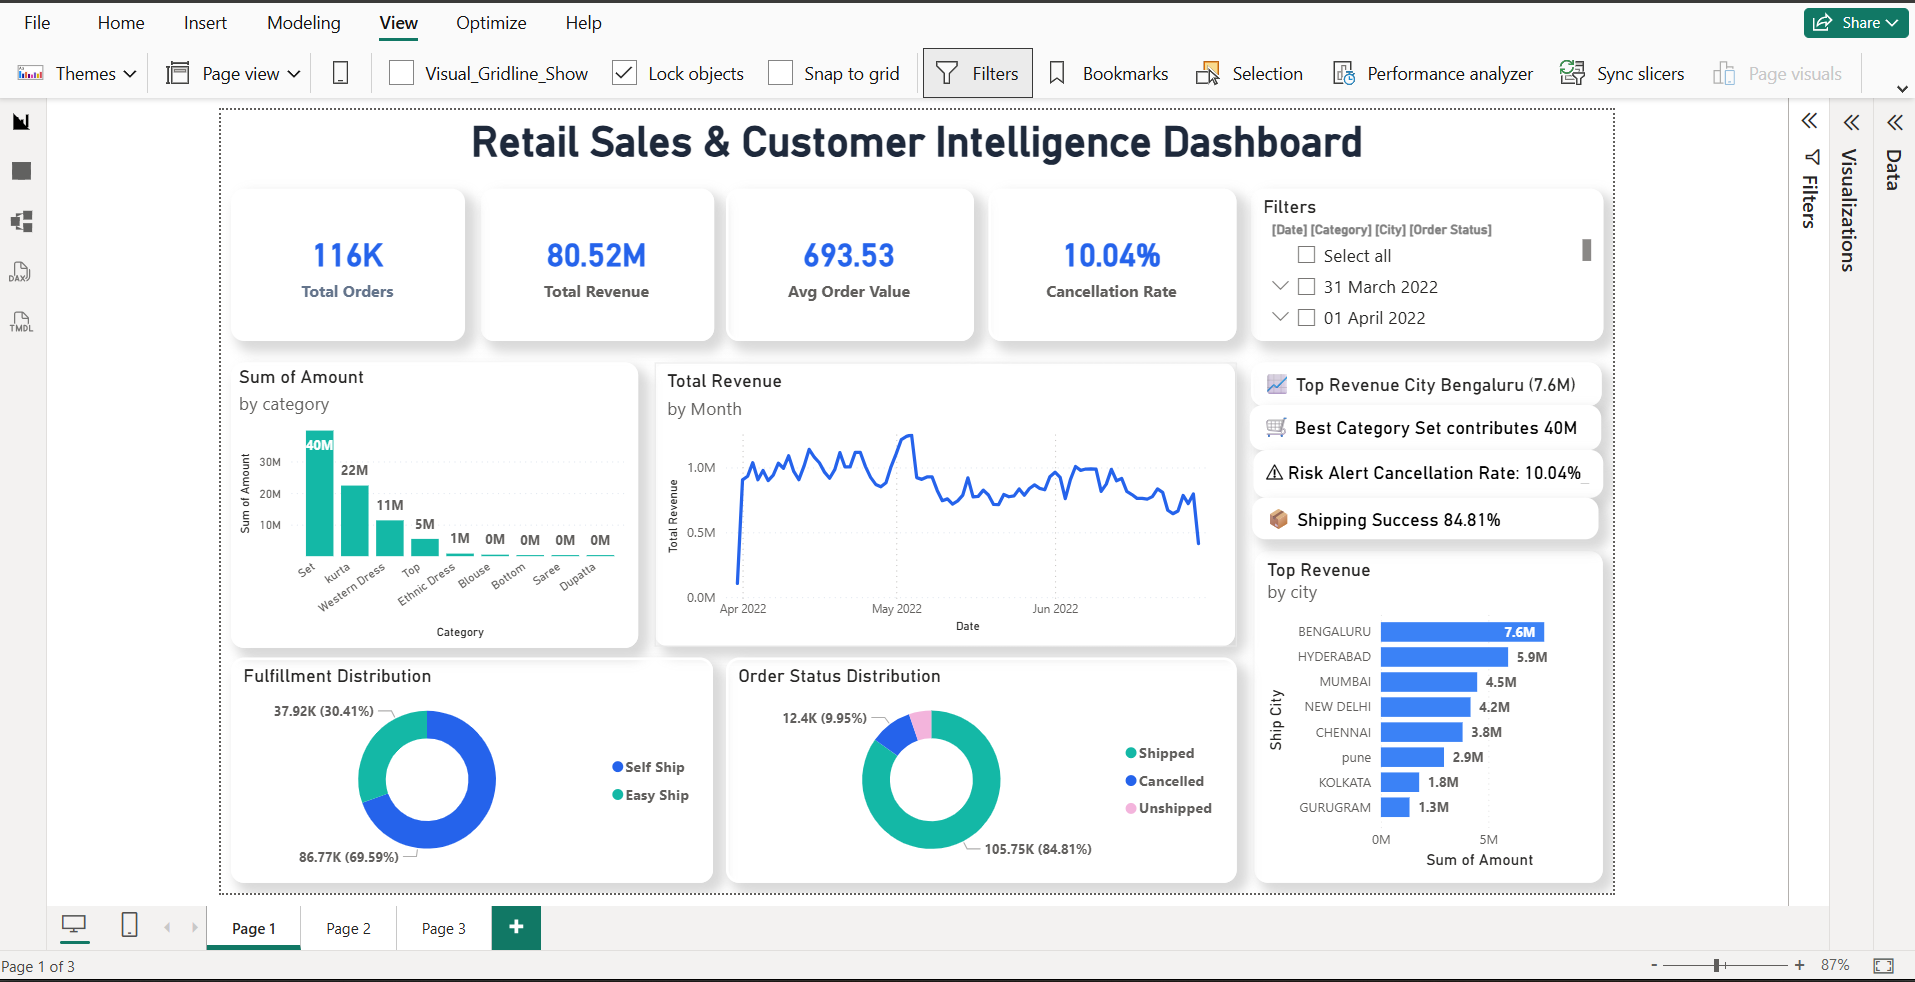

This screenshot's page, from the dashboard's own definition file:
{"tool":"powerbi","page":{"name":"Page 1","canvas":[1280,720],"ordinal":0},"visuals":[{"type":"card","fields":{"Values":["E-commerce Sales Data .Total Revenue"]},"box":[238.8,72.7,214.1,140],"z":0},{"type":"card","fields":{"Values":["E-commerce Sales Data .Total Orders"]},"box":[9.6,72.7,215.4,140],"z":1000},{"type":"lineChart","title":"Total Revenue ","fields":{"Category":["E-commerce Sales Data.Date"],"Y":["E-commerce Sales Data .Total Revenue"]},"box":[399.3,231.9,533.8,260.7],"z":2000},{"type":"clusteredColumnChart","title":"Sum of Amount ","fields":{"Category":["E-commerce Sales Data.Category"],"Y":["Sum(E-commerce Sales Data.Amount)"]},"box":[9.6,231.9,374.6,262.1],"z":3000},{"type":"clusteredBarChart","title":"Top Revenue","fields":{"Category":["E-commerce Sales Data .ship_city"],"Y":["Sum(E-commerce Sales Data .Amount)"]},"box":[950.9,406.2,319.7,304.6],"z":4000},{"type":"donutChart","title":"Fulfillment Distribution","fields":{"Category":["E-commerce Sales Data .fulfilled_by"],"Y":["CountNonNull(E-commerce Sales Data .fulfilled_by)"]},"box":[9.6,503.6,443.2,207.2],"z":5000},{"type":"donutChart","title":"Order Status Distribution","fields":{"Category":["E-commerce Sales Data .Courier_Status"],"Y":["CountNonNull(E-commerce Sales Data .Courier_Status)"]},"box":[463.8,503.6,469.3,207.2],"z":6000},{"type":"card","fields":{"Values":["E-commerce Sales Data .Avg Order Value"]},"box":[463.8,72.7,227.8,140],"z":7000},{"type":"textbox","title":"Retail Sales & Customer Intelligence Dashboard","box":[0,0,1280.3,55],"z":8000},{"type":"slicer","title":"Filters","fields":{"Values":["E-commerce Sales Data .Date","E-commerce Sales Data .Category","E-commerce Sales Data .ship_city","E-commerce Sales Data .Courier_Status"]},"box":[946.8,72.7,323.8,140],"z":9000},{"type":"card","fields":{"Values":["E-commerce Sales Data.Cancellation Rate"]},"box":[705.3,72.7,227.8,140],"z":10000},{"type":"textbox","title":"📈 Top Revenue City        Bengaluru (7.6M) ","box":[947.5,232.3,322.8,40.3],"z":11000},{"type":"textbox","title":"🛒 Best Category Set contributes 40M","box":[946.5,271.5,322.8,41.6],"z":12000},{"type":"textbox","title":"⚠ Risk Alert Cancellation Rate: 10.04% ","box":[948.9,313,321.6,44],"z":13000},{"type":"textbox","title":"📦 Shipping Success 84.81%","box":[948.2,356.8,318.4,38.4],"z":14000}]}

Visuals, with their boxes on the page's 1280x720 design canvas (x1, y1, x2, y2). These are canvas units, not pixel positions in the 1915x982 screenshot, which may show the page scaled, cropped or inside an application window:
card - E-commerce Sales Data .Total Revenue: [x1=239, y1=73, x2=453, y2=213]
card - E-commerce Sales Data .Total Orders: [x1=10, y1=73, x2=225, y2=213]
"Total Revenue " lineChart: [x1=399, y1=232, x2=933, y2=493]
"Sum of Amount " clusteredColumnChart: [x1=10, y1=232, x2=384, y2=494]
"Top Revenue" clusteredBarChart: [x1=951, y1=406, x2=1271, y2=711]
"Fulfillment Distribution" donutChart: [x1=10, y1=504, x2=453, y2=711]
"Order Status Distribution" donutChart: [x1=464, y1=504, x2=933, y2=711]
card - E-commerce Sales Data .Avg Order Value: [x1=464, y1=73, x2=692, y2=213]
"Retail Sales & Customer Intelligence Dashboard" textbox: [x1=0, y1=0, x2=1280, y2=55]
"Filters" slicer: [x1=947, y1=73, x2=1271, y2=213]
card - E-commerce Sales Data.Cancellation Rate: [x1=705, y1=73, x2=933, y2=213]
"📈 Top Revenue City        Bengaluru (7.6M) " textbox: [x1=948, y1=232, x2=1270, y2=273]
"🛒 Best Category Set contributes 40M" textbox: [x1=946, y1=272, x2=1269, y2=313]
"⚠ Risk Alert Cancellation Rate: 10.04% " textbox: [x1=949, y1=313, x2=1270, y2=357]
"📦 Shipping Success 84.81%" textbox: [x1=948, y1=357, x2=1267, y2=395]
